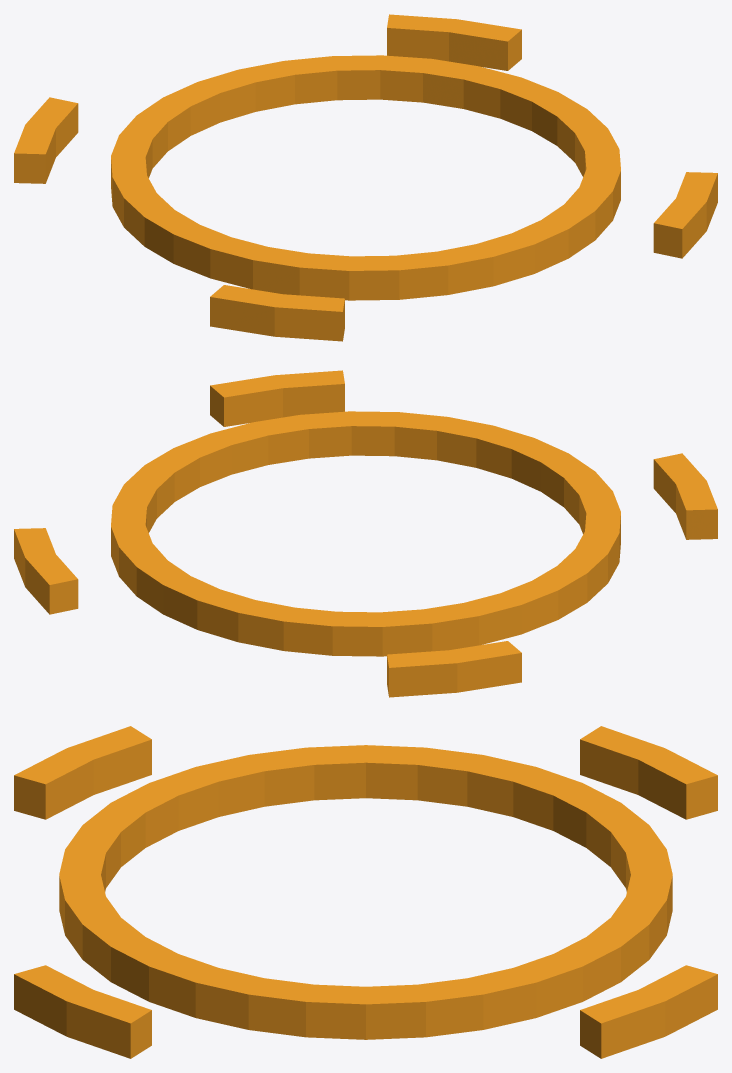
The model's file is SM_Icon_SelectionRing_02.fbx.
3 renders of one model, top to bottom at view 1: azimuth 30°, elevation 25°; view 2: azimuth 150°, elevation 25°; view 3: azimuth 270°, elevation 25°, orthographic. The views are drawn at different scales.
Visible parts, largest first — view 1: SM_Icon_SelectionRing_02; view 2: SM_Icon_SelectionRing_02; view 3: SM_Icon_SelectionRing_02.
Boxes of the visible parts, box(x1,y1,x2,y2) form: SM_Icon_SelectionRing_02: box(14, 14, 717, 341); SM_Icon_SelectionRing_02: box(14, 370, 717, 697); SM_Icon_SelectionRing_02: box(14, 726, 717, 1058).
Bounding box in the file's own units: 66.08 × 3.67 × 66.08.
